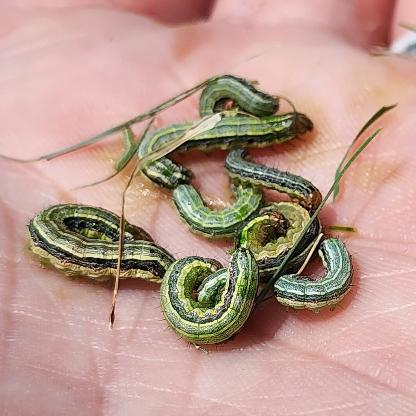Fall Armyworm Larvae: (192, 198, 330, 314), (134, 110, 316, 192), (22, 198, 182, 290), (153, 242, 263, 354), (270, 230, 364, 320), (218, 145, 326, 213), (169, 175, 273, 245), (195, 72, 282, 122)
